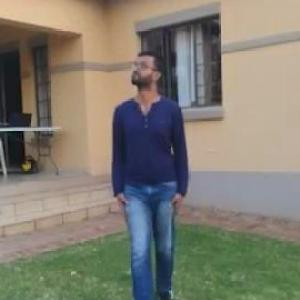follow: (106, 48, 188, 299)
